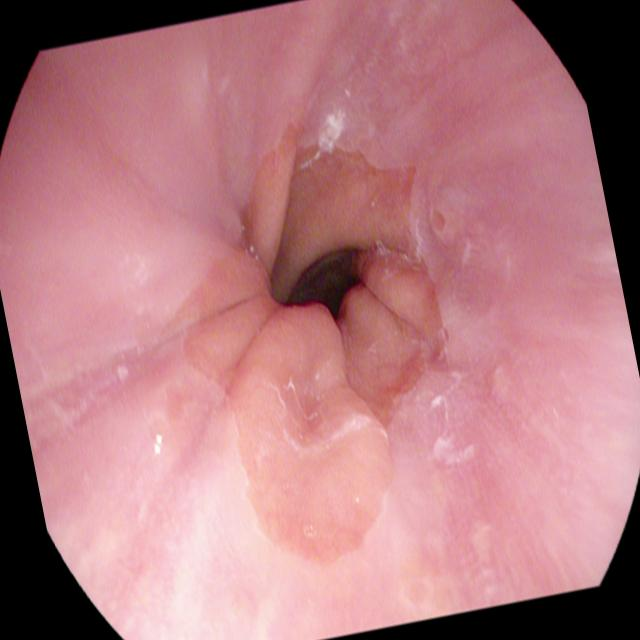esophagitis: (165, 109, 482, 575)
